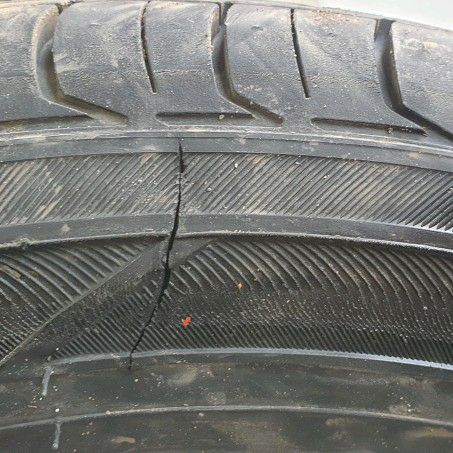cut: (127, 138, 188, 372)
